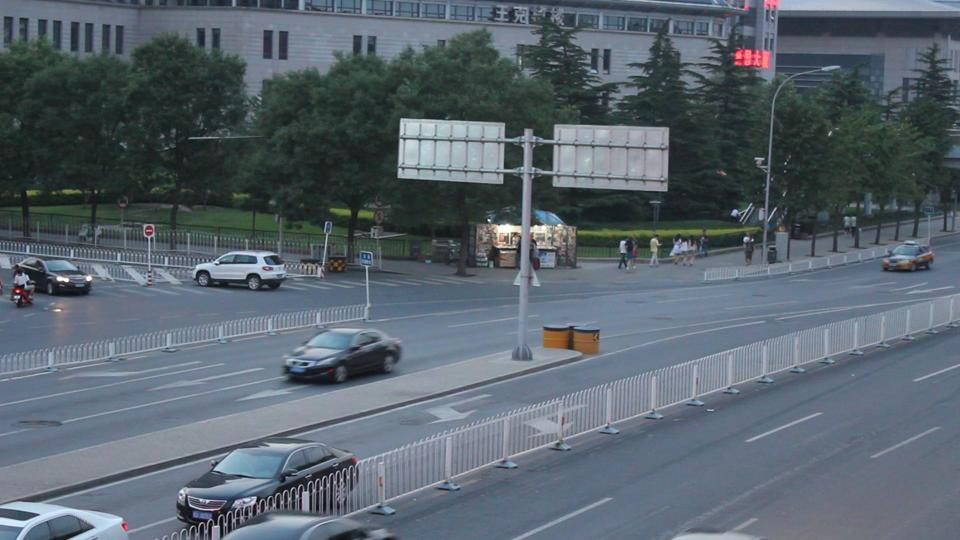Car: (176, 437, 362, 521), (282, 326, 404, 380), (1, 492, 128, 540), (192, 245, 284, 290), (14, 255, 93, 295), (881, 239, 932, 272)
